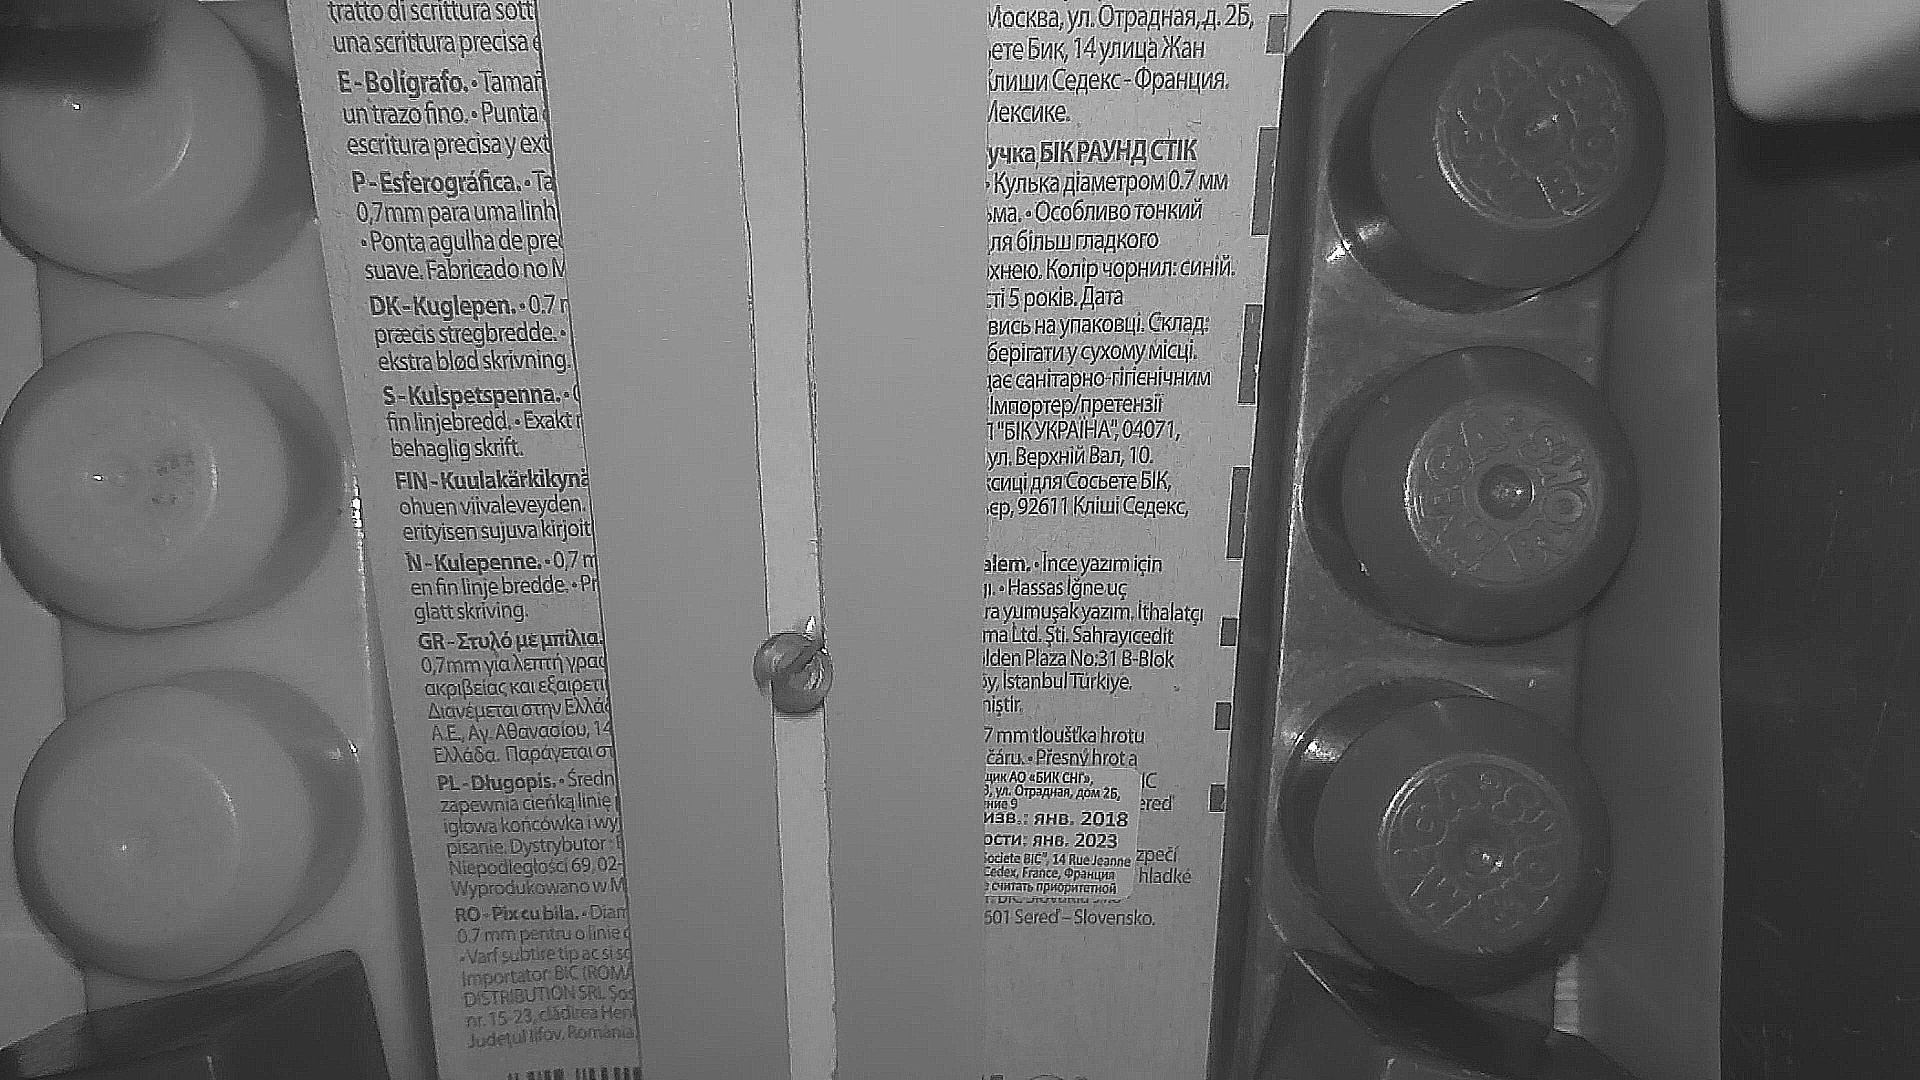i: (753, 636, 833, 713)
